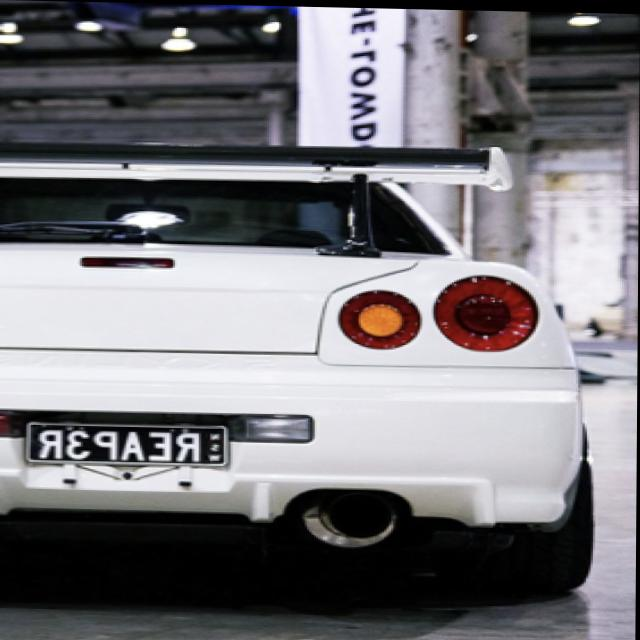licence: (29, 422, 229, 465)
